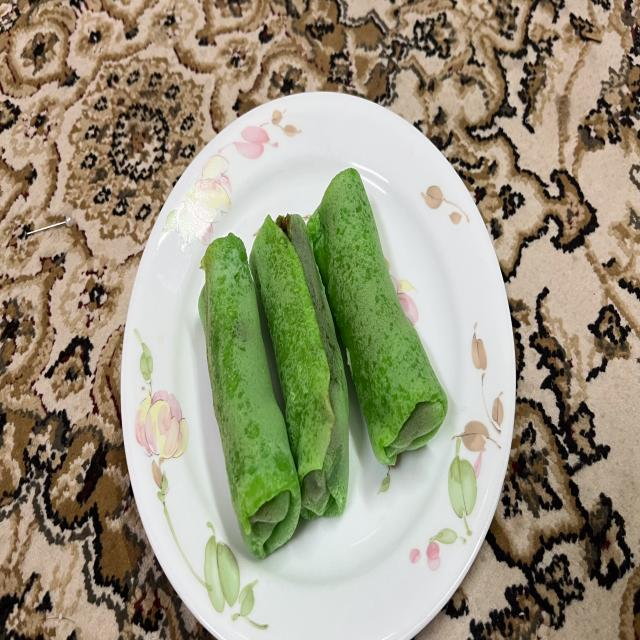Kuih-Ketayap: (308, 169, 448, 464), (199, 233, 301, 558), (250, 216, 349, 518)
